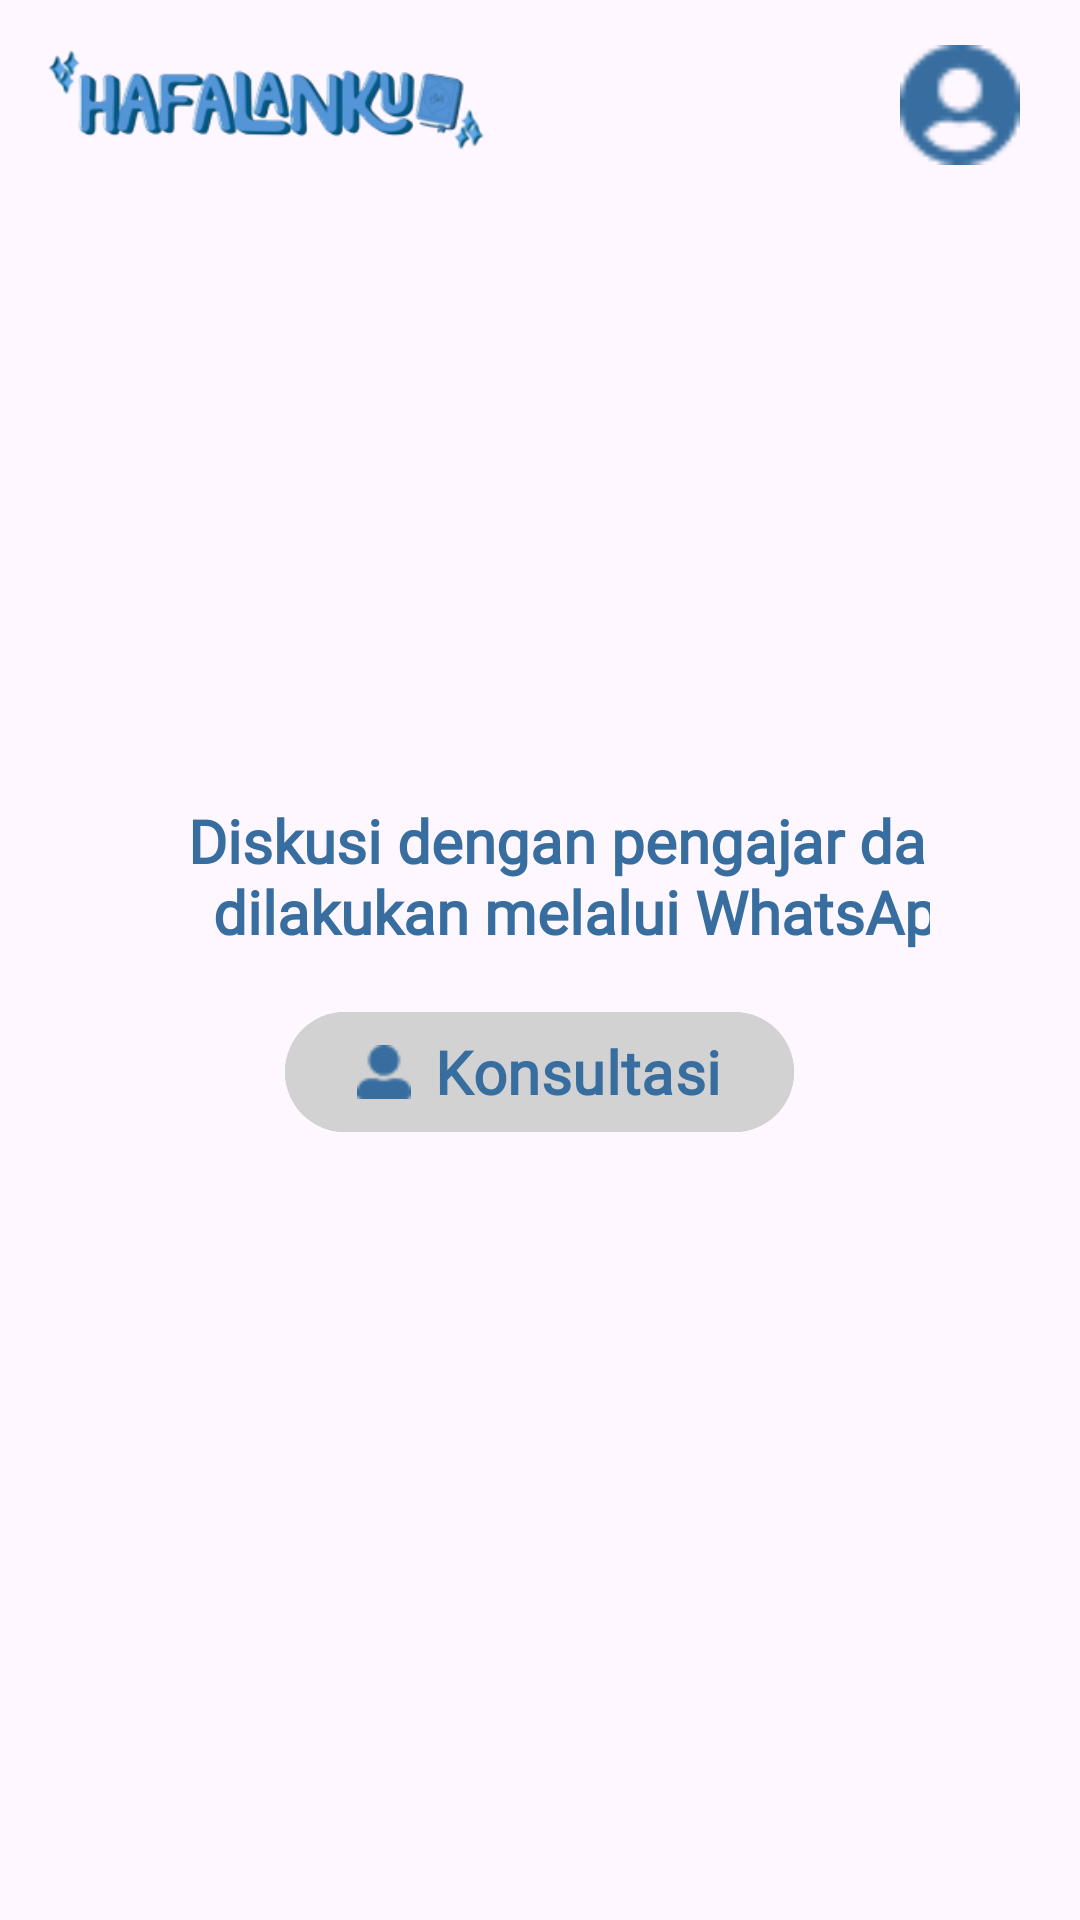

Screen size 1080x1920. Icon name, then its center in pixels as point (x, y):
profile: point (960, 105)
